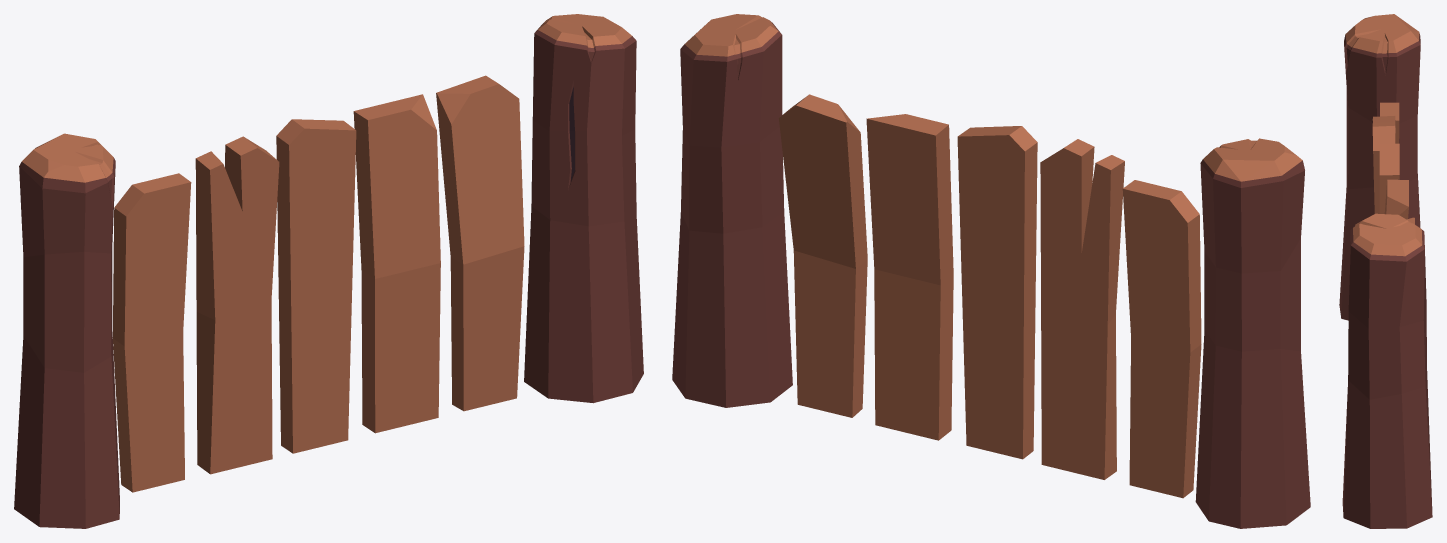
Rendered from Fence Wooden Blunt 09.fbx.
3 renders of one model, left to right at view 1: azimuth 30°, elevation 25°; view 2: azimuth 150°, elevation 25°; view 3: azimuth 270°, elevation 25°, orthographic. The views are drawn at different scales.
Parts seen in each view (by area): view 1: Wooden Pole Blunt 09; view 2: Wooden Pole Blunt 09; view 3: Wooden Pole Blunt 09.
Boxes of the visible parts, x1=… form: Wooden Pole Blunt 09: x1=14, y1=14, x2=643, y2=528; Wooden Pole Blunt 09: x1=672, y1=14, x2=1310, y2=528; Wooden Pole Blunt 09: x1=1339, y1=14, x2=1432, y2=528.
Bounding box in the file's own units: 199 × 112 × 33.05.
